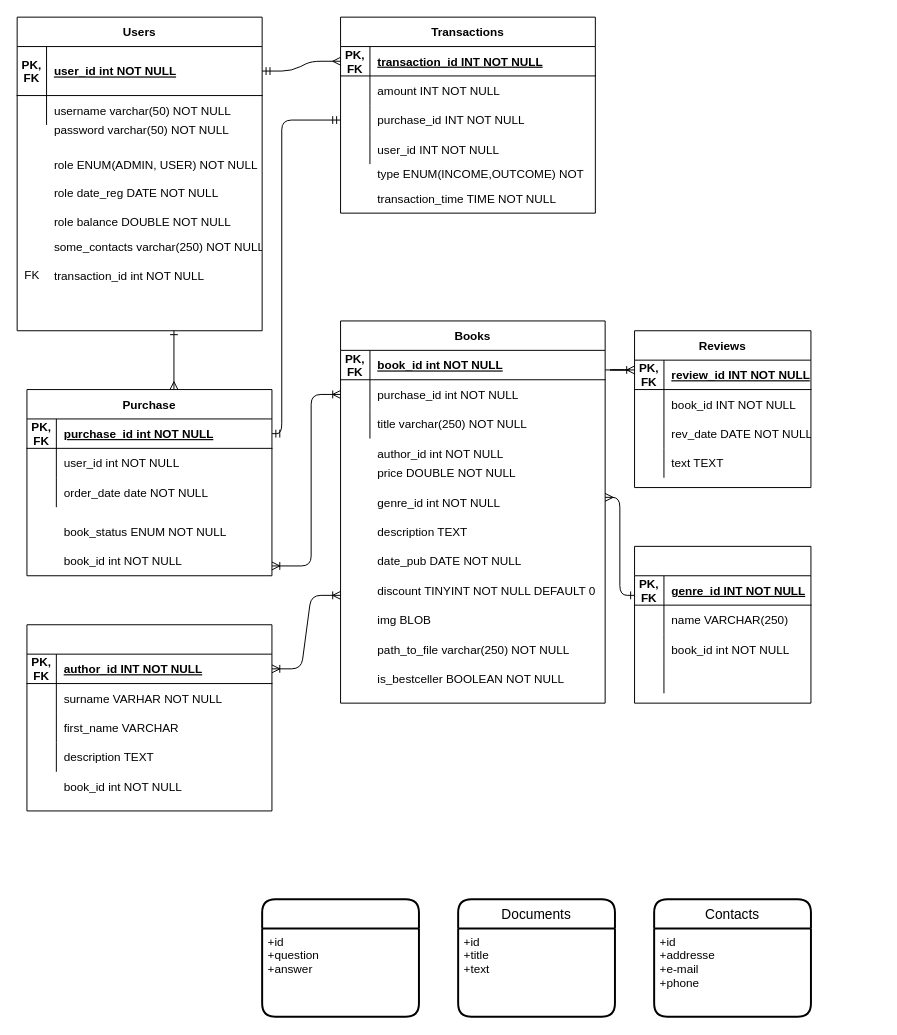
Image size: 897x1035. Some labels were removed from this diagram. Here are the shapes that lost their labels. From the top down, the box of each, then its label:
(634, 545, 811, 703): Genres
(26, 624, 272, 811): Authors
(261, 898, 419, 1017): FAQ
